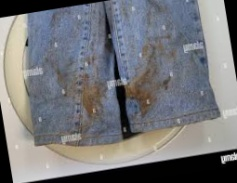earth: (124, 72, 158, 115), (75, 77, 107, 119)
